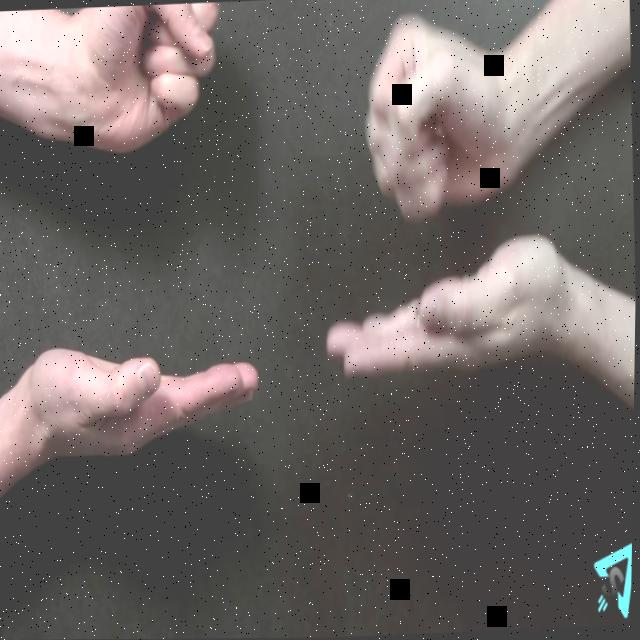Rock: (360, 8, 514, 221), (69, 2, 225, 156)
